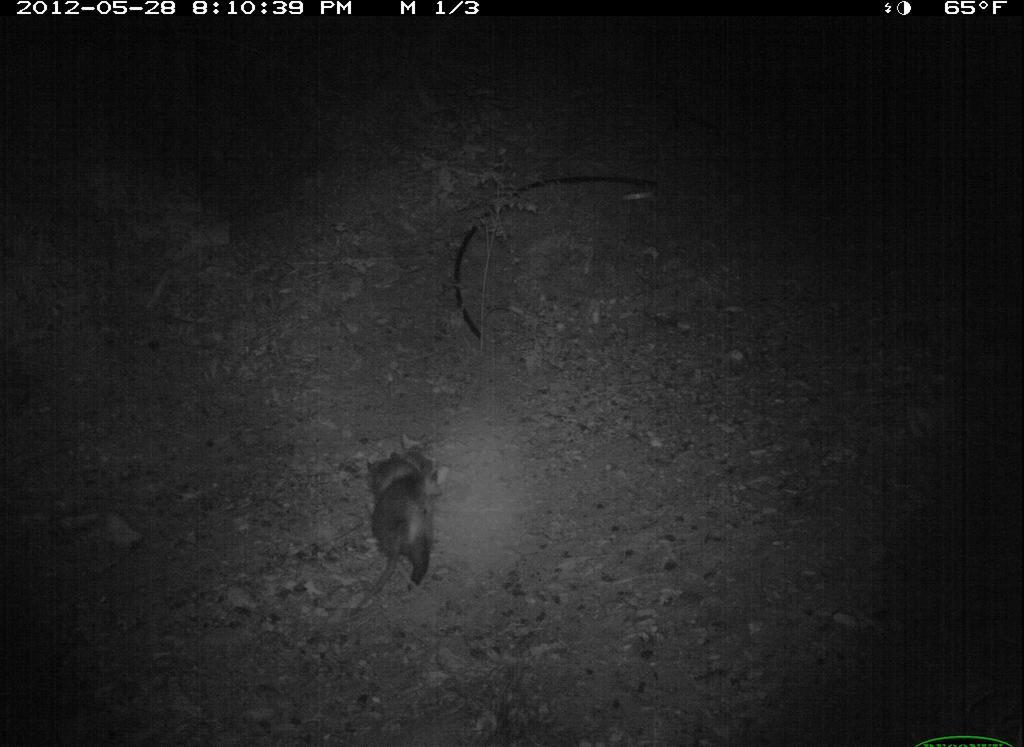opossum: (342, 442, 447, 625)
